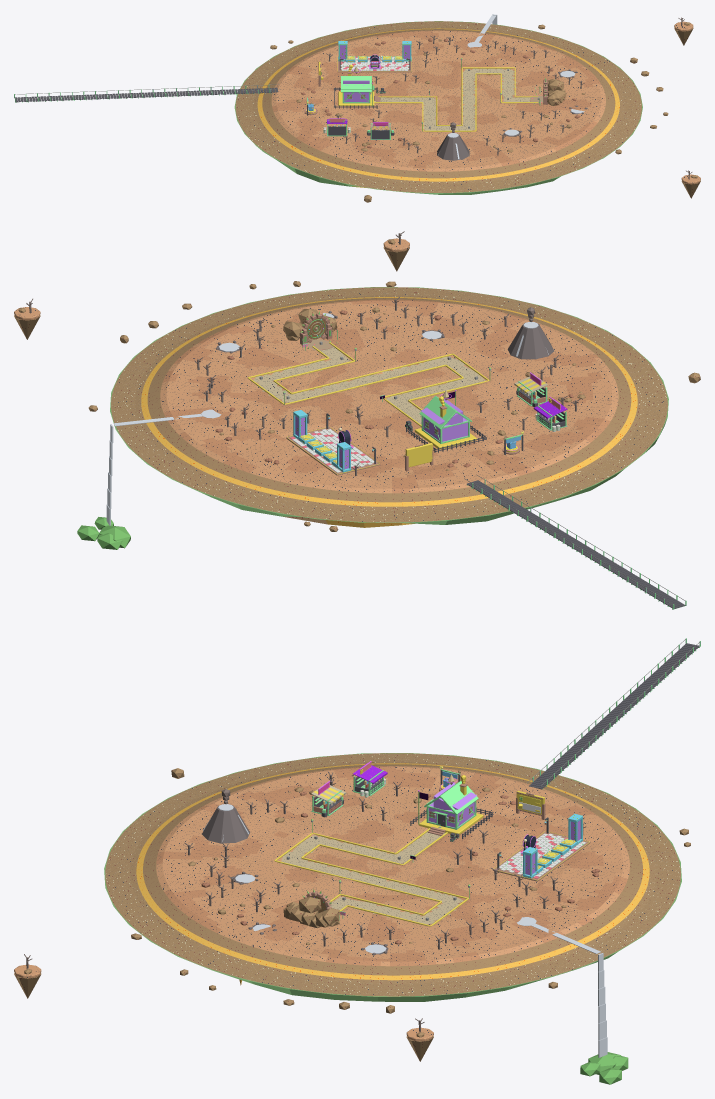
Rendered from Isla5_Volcan.obj.
3 views of the same model, one above another, from view 1: azimuth 30°, elevation 25°; view 2: azimuth 150°, elevation 25°; view 3: azimuth 270°, elevation 25° (orthographic). The views are drawn at different scales.
Visible parts, largest first — view 1: Isla5_Volcan_Terreno, Isla5_Volcan_Base_Flotante, Isla5_Volcan_Casa, Isla5_Volcan_Palanca_Zona, Isla5_Volcan_Monumento, Isla5_Volcan_Portal, Puente_5_8, Isla5_Volcan_Equipamientos_Puesto, Isla5_Volcan_Tienda_Puesto, Isla5_Volcan_Detalles_15; view 2: Isla5_Volcan_Terreno, Isla5_Volcan_Base_Flotante, Isla5_Volcan_Casa, Isla5_Volcan_Palanca_Zona, Isla5_Volcan_Portal, Isla5_Volcan_Monumento, Isla5_Volcan_Detalles_6, Puente_5_8, Isla5_Volcan_Equipamientos_Puesto, Isla5_Volcan_Detalles_7, Isla5_Volcan_Tienda_Puesto, Isla5_Volcan_Mejoras_Marco (+1 smaller); view 3: Isla5_Volcan_Terreno, Isla5_Volcan_Casa, Isla5_Volcan_Base_Flotante, Isla5_Volcan_Palanca_Zona, Isla5_Volcan_Portal, Isla5_Volcan_Monumento, Isla5_Volcan_Detalles_6, Isla5_Volcan_Detalles_7, Isla5_Volcan_Equipamientos_Puesto, Isla5_Volcan_Tienda_Puesto, Puente_5_8.
Part boxes in pixels (x1,y1,x2,y2): Isla5_Volcan_Terreno: (235, 21, 641, 192); Isla5_Volcan_Base_Flotante: (234, 21, 642, 194); Isla5_Volcan_Casa: (333, 64, 380, 108); Isla5_Volcan_Palanca_Zona: (337, 41, 411, 72); Isla5_Volcan_Monumento: (437, 122, 469, 160); Isla5_Volcan_Portal: (530, 78, 566, 105); Puente_5_8: (15, 84, 280, 98); Isla5_Volcan_Equipamientos_Puesto: (323, 118, 350, 136); Isla5_Volcan_Tienda_Puesto: (367, 122, 394, 139); Isla5_Volcan_Detalles_15: (681, 170, 700, 198); Isla5_Volcan_Terreno: (111, 287, 667, 522); Isla5_Volcan_Base_Flotante: (110, 287, 668, 527); Isla5_Volcan_Casa: (406, 389, 486, 452); Isla5_Volcan_Palanca_Zona: (286, 410, 380, 475); Isla5_Volcan_Portal: (283, 309, 337, 350); Isla5_Volcan_Monumento: (507, 307, 554, 359); Isla5_Volcan_Detalles_6: (94, 414, 202, 548); Puente_5_8: (464, 475, 685, 604); Isla5_Volcan_Equipamientos_Puesto: (533, 396, 567, 431); Isla5_Volcan_Detalles_7: (77, 488, 121, 549); Isla5_Volcan_Tienda_Puesto: (514, 372, 547, 407); Isla5_Volcan_Mejoras_Marco: (405, 443, 433, 471); Isla5_Volcan_Terreno: (105, 753, 680, 996); Isla5_Volcan_Casa: (410, 774, 493, 839); Isla5_Volcan_Base_Flotante: (104, 753, 681, 1001); Isla5_Volcan_Palanca_Zona: (493, 813, 590, 881); Isla5_Volcan_Portal: (283, 889, 339, 928); Isla5_Volcan_Monumento: (202, 789, 250, 843); Isla5_Volcan_Detalles_6: (531, 923, 621, 1076); Isla5_Volcan_Detalles_7: (598, 1020, 628, 1084); Isla5_Volcan_Equipamientos_Puesto: (353, 761, 387, 797); Isla5_Volcan_Tienda_Puesto: (311, 781, 346, 817); Puente_5_8: (527, 639, 699, 785).
Bounding box in the file's own units: 232 × 45.58 × 167.
Materials: 1 (1 with a texture image).
